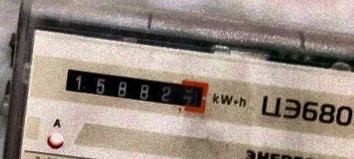1: (71, 72, 84, 91)
2: (158, 84, 172, 103)
5: (93, 76, 106, 95)
7: (180, 94, 193, 107)
8: (136, 81, 150, 101), (114, 79, 128, 97)
screen: (55, 57, 214, 121)
